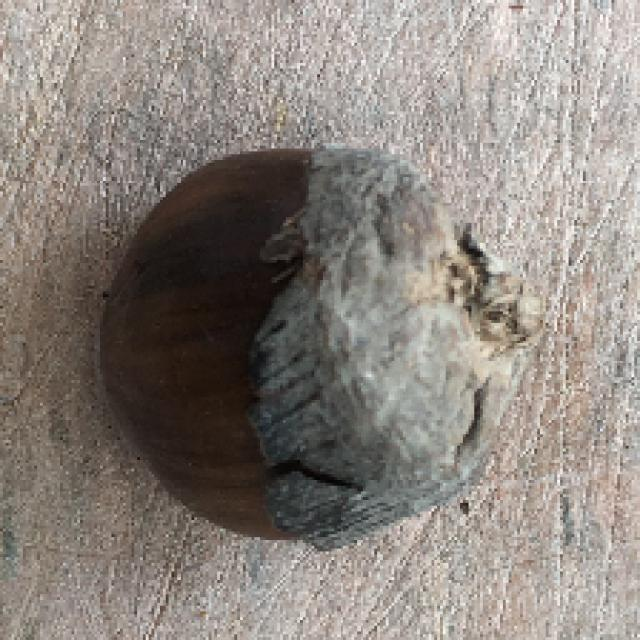damagedHazelnut: (87, 127, 554, 570)
